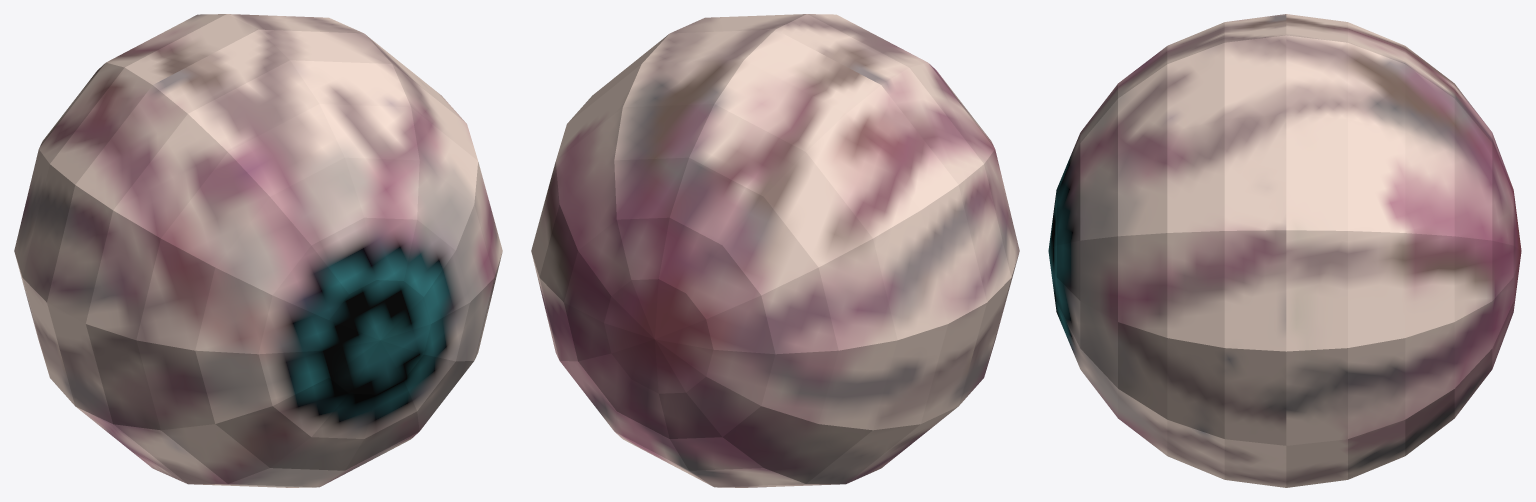
Rendered from eyeball-controls.glb.
The picture shows the model from 3 angles, left to right: view 1: azimuth 30°, elevation 25°; view 2: azimuth 150°, elevation 25°; view 3: azimuth 270°, elevation 25°; orthographic projection. The views are drawn at different scales.
Visible parts, largest first — view 1: nolids; view 2: nolids; view 3: nolids.
Boxes of the visible parts, bbox=[...] form: nolids: bbox=[14, 14, 502, 487]; nolids: bbox=[531, 14, 1019, 487]; nolids: bbox=[1048, 14, 1521, 487].
Size of the model in its own units: 2 by 2 by 1.99.
Materials: 1 (1 with a texture image).
